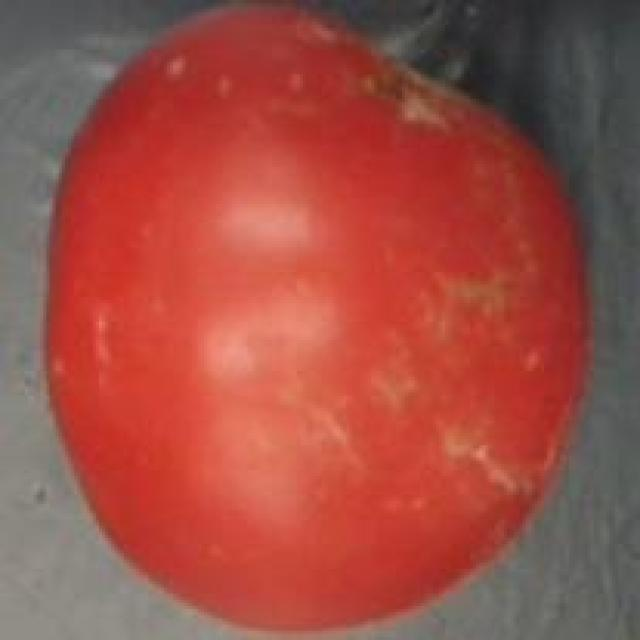overripe tomato: (40, 0, 597, 640)
